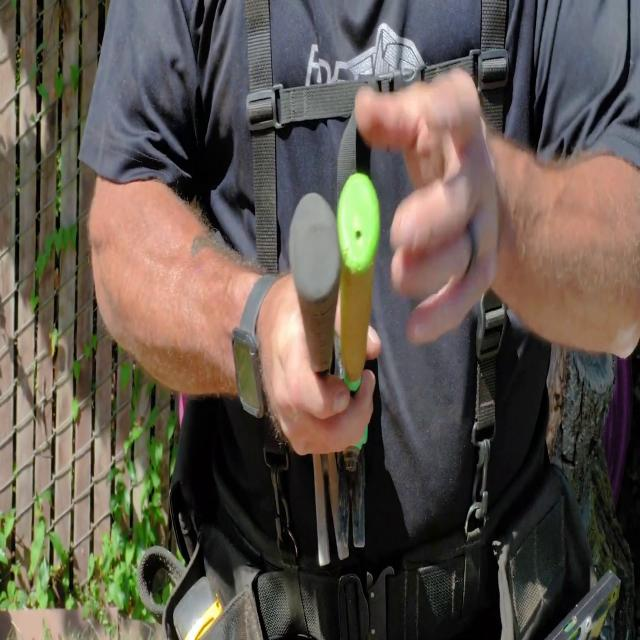hammer: (288, 192, 349, 566), (336, 173, 380, 547)
